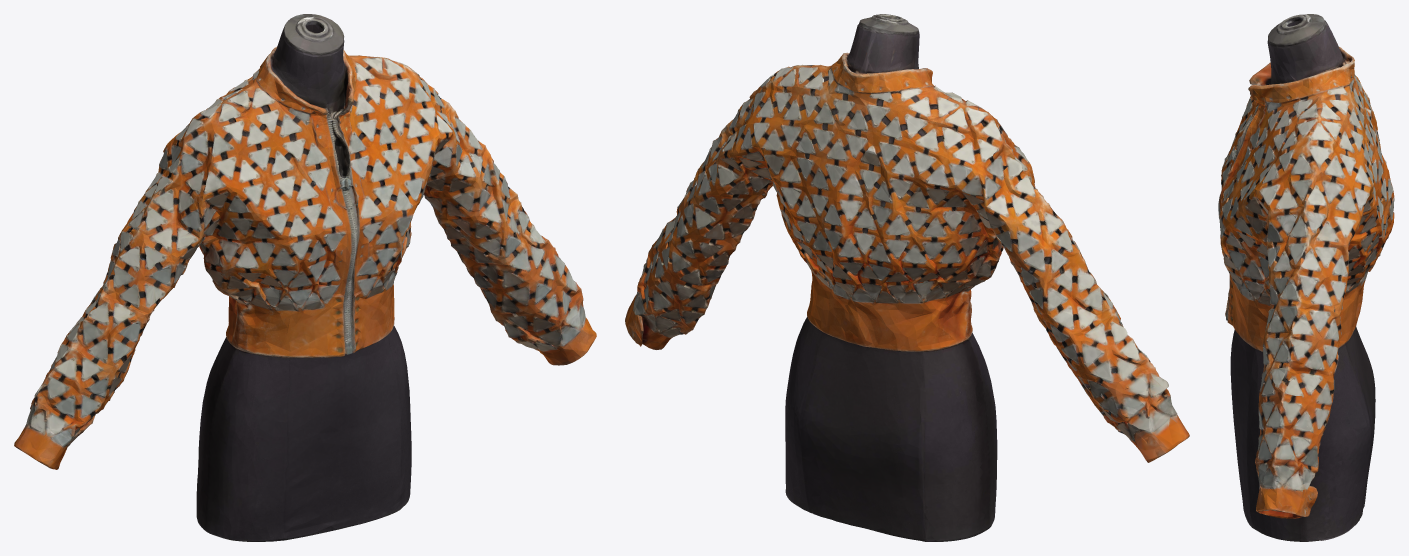
Rendered from blouson.glb.
3 renders of one model, left to right at view 1: azimuth 30°, elevation 25°; view 2: azimuth 150°, elevation 25°; view 3: azimuth 270°, elevation 25°, orthographic.
Parts seen in each view (by area): view 1: T9079_SfM-Artec-combined_zugeschnitten; view 2: T9079_SfM-Artec-combined_zugeschnitten; view 3: T9079_SfM-Artec-combined_zugeschnitten.
Part boxes in pixels (box(x1,y1,x2,y2)): T9079_SfM-Artec-combined_zugeschnitten: box(14, 14, 596, 541); T9079_SfM-Artec-combined_zugeschnitten: box(625, 14, 1189, 541); T9079_SfM-Artec-combined_zugeschnitten: box(1218, 14, 1394, 541).
Size of the model in its own units: 97.05 by 79.39 by 26.47.
Materials: 1 (1 with a texture image).
